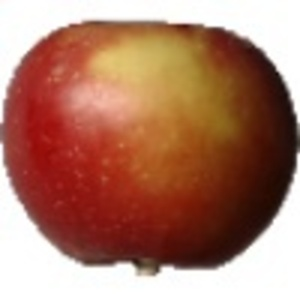maçã braeburn: (1, 18, 300, 268)
